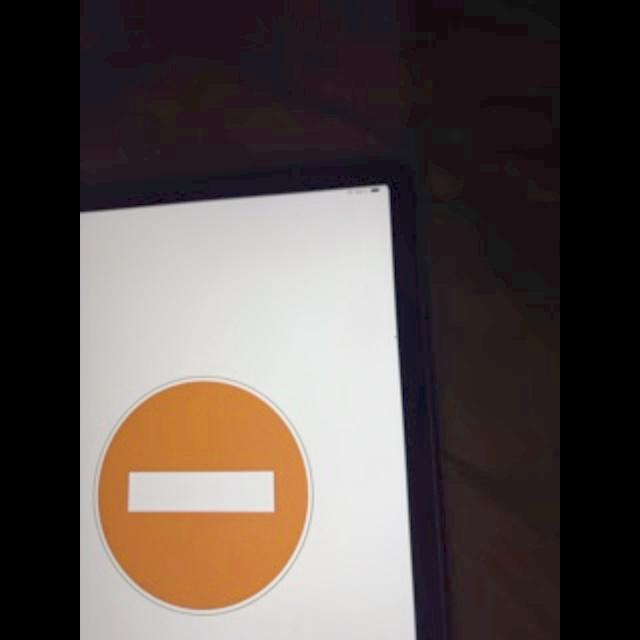NO ENTRY: (94, 374, 314, 618)
